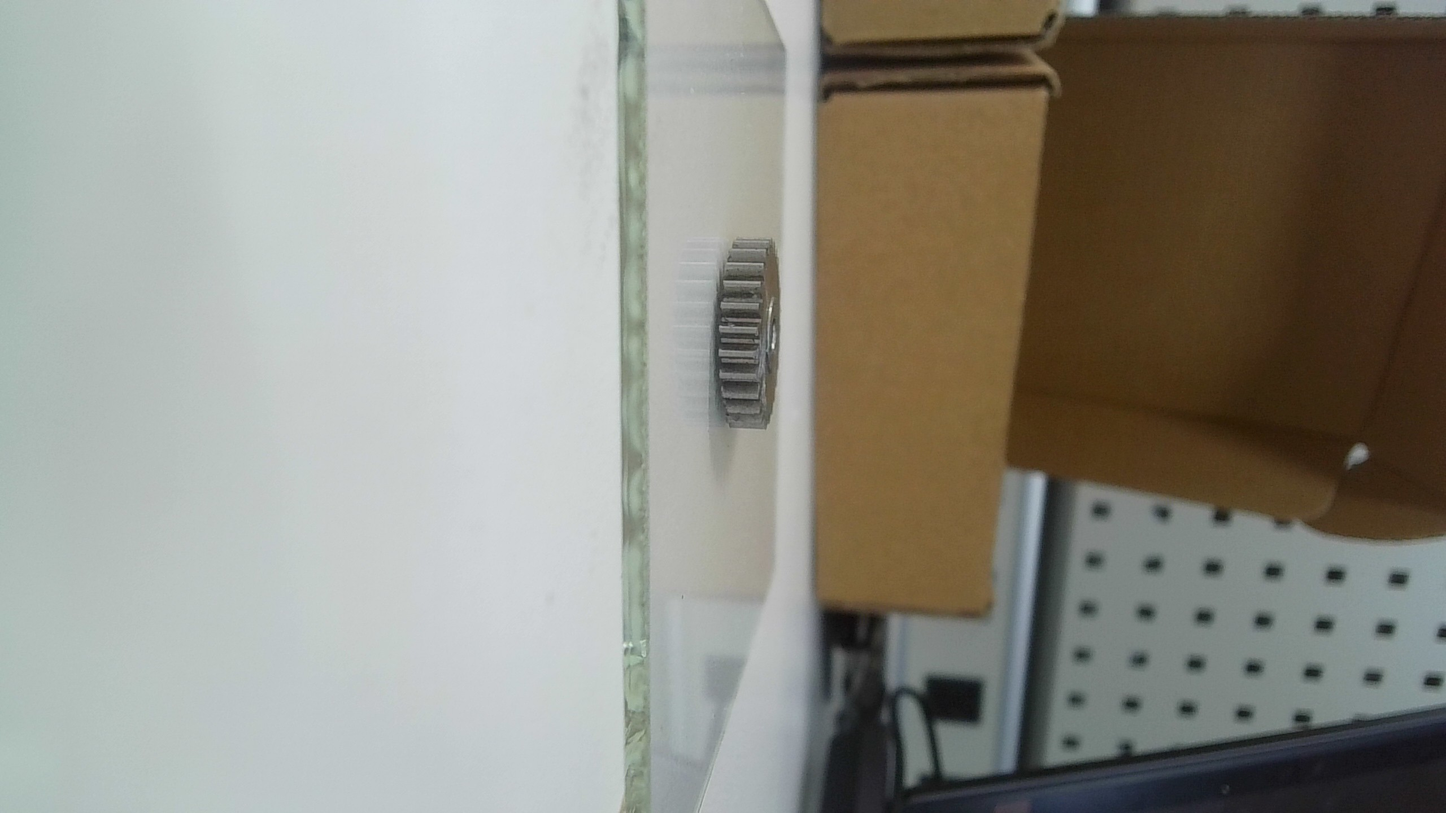gear: (710, 231, 783, 432)
